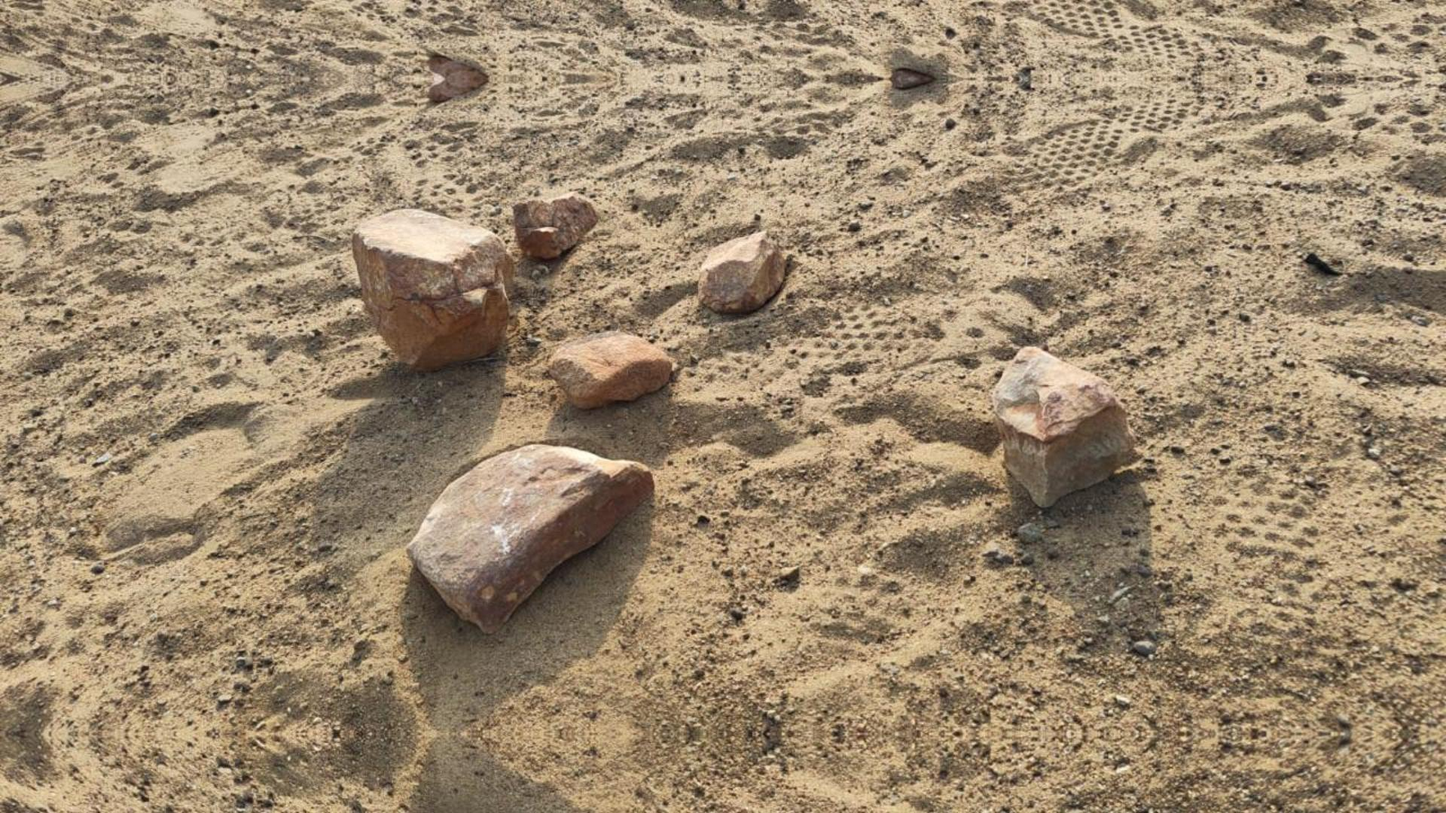rock: (409, 444, 653, 632), (352, 209, 512, 369), (991, 347, 1133, 507), (549, 332, 671, 409), (698, 231, 785, 312), (513, 193, 596, 259)
